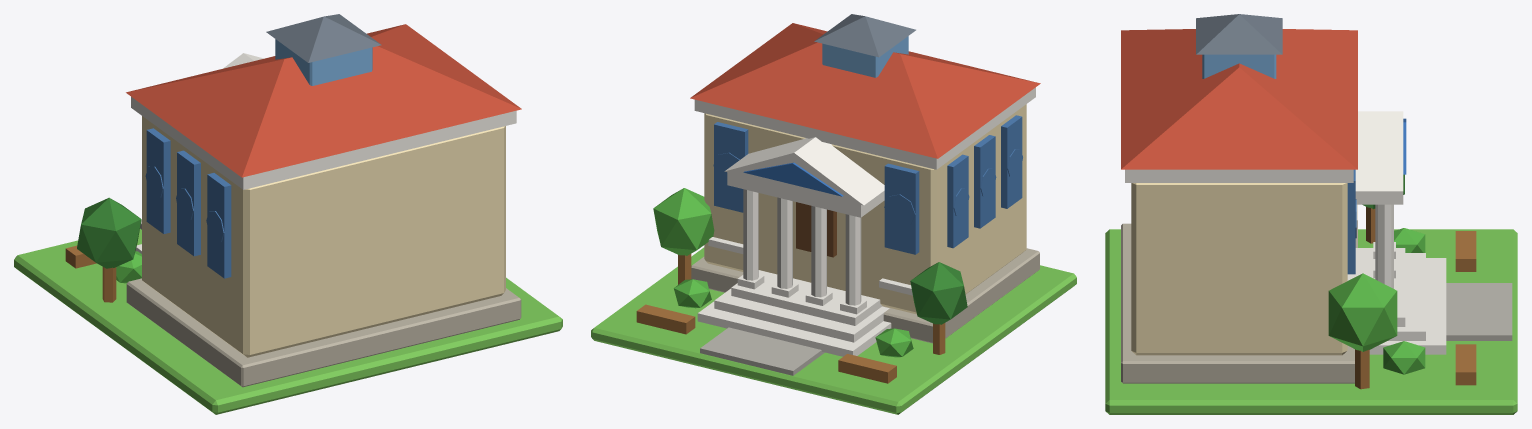
File: biblioteca.glb
3 views of the same model, side by side, from view 1: azimuth 30°, elevation 25°; view 2: azimuth 150°, elevation 25°; view 3: azimuth 270°, elevation 25° (orthographic). The views are drawn at different scales.
Visible parts, largest first — view 1: corpo; view 2: corpo; view 3: corpo.
Boxes of the visible parts, bbox=[...] form: corpo: bbox=[14, 14, 562, 414]; corpo: bbox=[591, 14, 1076, 414]; corpo: bbox=[1105, 14, 1517, 414].
Size of the model in its own units: 2.01 by 1.69 by 2.
